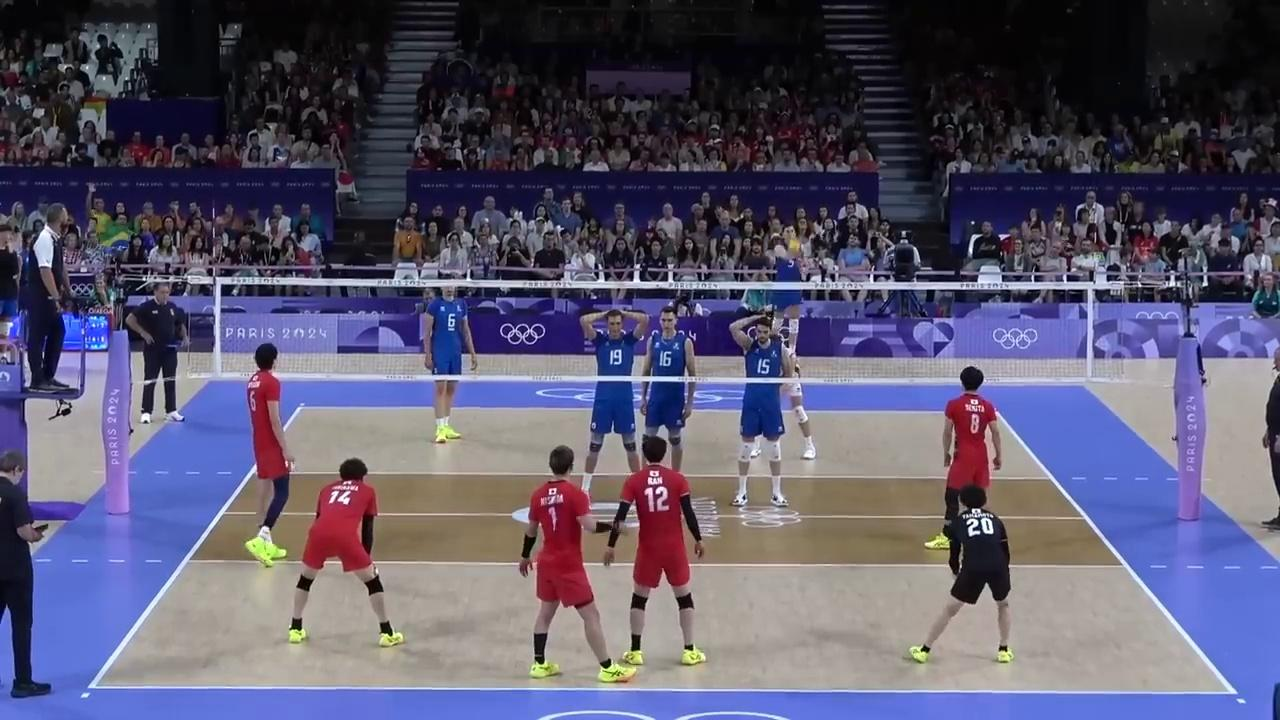ball: (788, 240, 803, 258)
